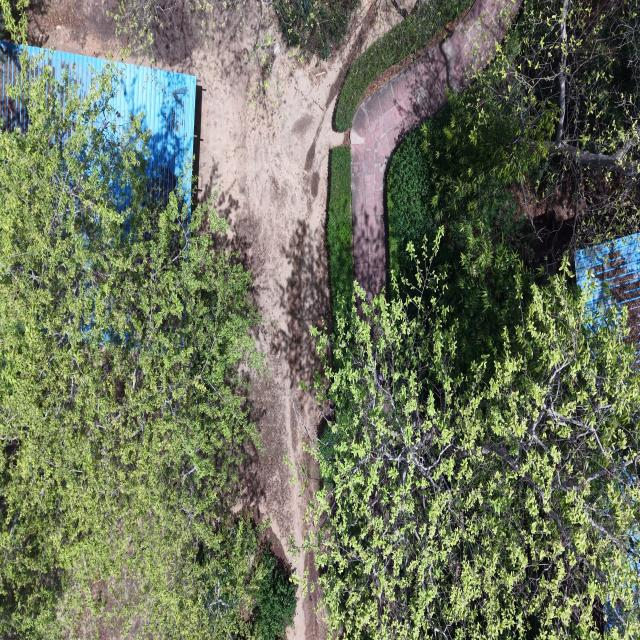DRY_AREA: (157, 0, 398, 580), (158, 25, 342, 576), (182, 43, 335, 576), (351, 0, 519, 299), (359, 3, 472, 106), (327, 0, 402, 103)
ROOFTOP_BUILDING: (0, 42, 201, 217), (0, 42, 201, 210), (111, 63, 201, 208), (575, 234, 639, 343)
VEGETATION_TREE: (310, 0, 639, 639), (311, 0, 639, 639), (0, 55, 295, 638), (312, 262, 639, 638), (387, 2, 637, 344), (388, 0, 639, 260), (387, 65, 553, 369), (448, 0, 639, 245), (387, 106, 534, 368), (387, 65, 561, 278), (478, 0, 638, 174), (387, 104, 529, 277), (335, 0, 468, 131), (336, 0, 465, 130), (109, 0, 246, 63), (113, 0, 247, 60), (387, 130, 438, 274), (273, 0, 357, 58), (327, 146, 353, 317), (113, 0, 183, 63), (254, 547, 297, 639), (0, 0, 28, 39), (0, 6, 6, 39)
